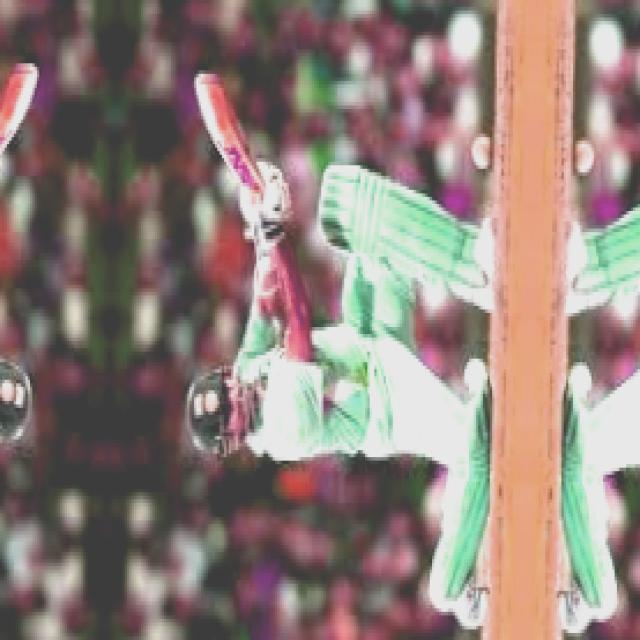bat: (174, 68, 266, 195)
toe: (187, 73, 227, 88)
